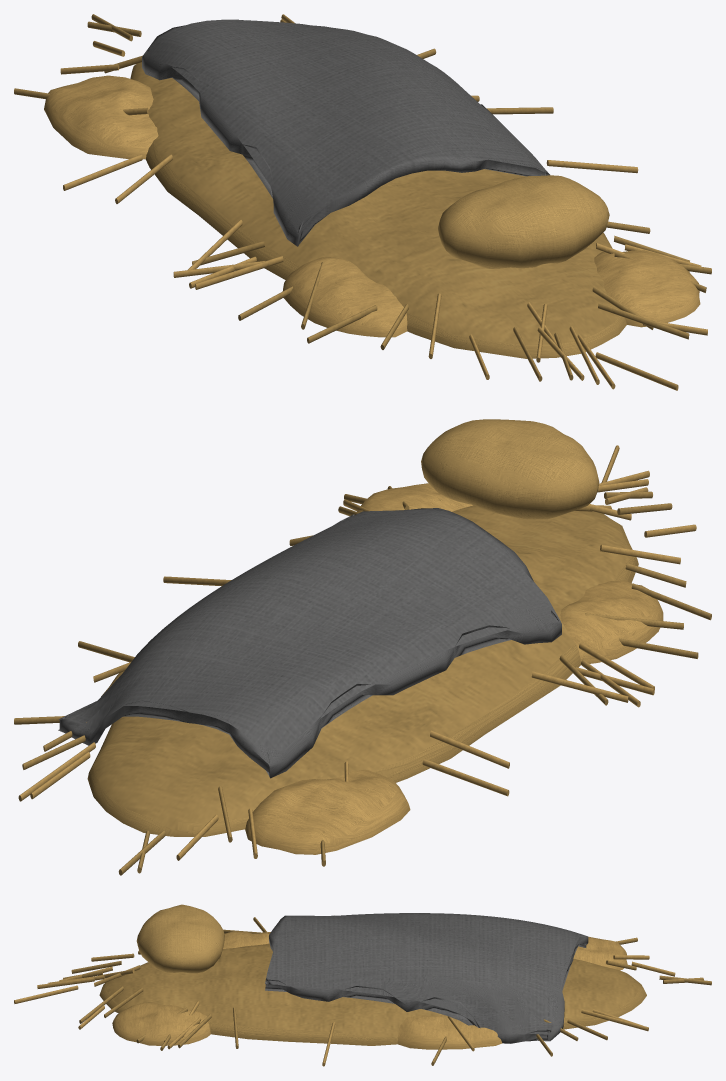
Rendered from straw_bed.glb.
The picture shows the model from 3 angles, top to bottom: view 1: azimuth 30°, elevation 25°; view 2: azimuth 150°, elevation 25°; view 3: azimuth 270°, elevation 25°; orthographic projection. The views are drawn at different scales.
Visible parts, largest first — view 1: straw_bed; view 2: straw_bed; view 3: straw_bed.
Boxes of the visible parts, x1,y1,x2,y2 form: straw_bed: [14, 14, 711, 390]; straw_bed: [14, 419, 711, 875]; straw_bed: [14, 904, 711, 1066].
Bounding box in the file's own units: 1.2 × 0.3 × 2.4.
Materials: 1 (1 with a texture image).
